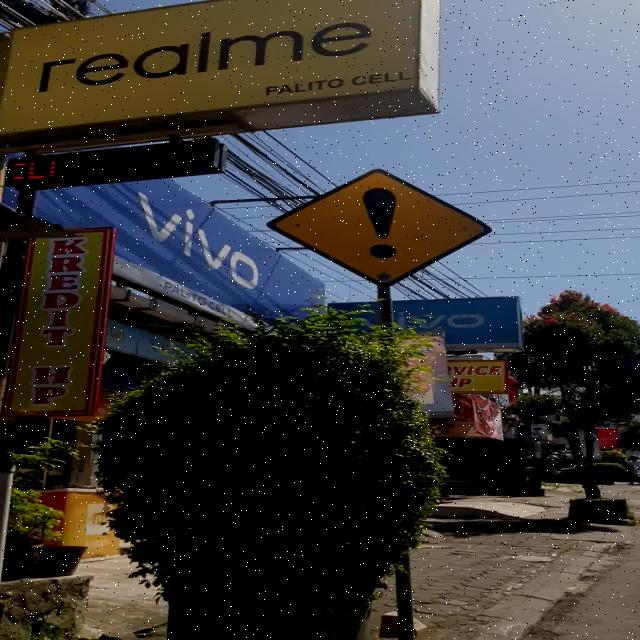Hati-Hati: (268, 168, 492, 286)
